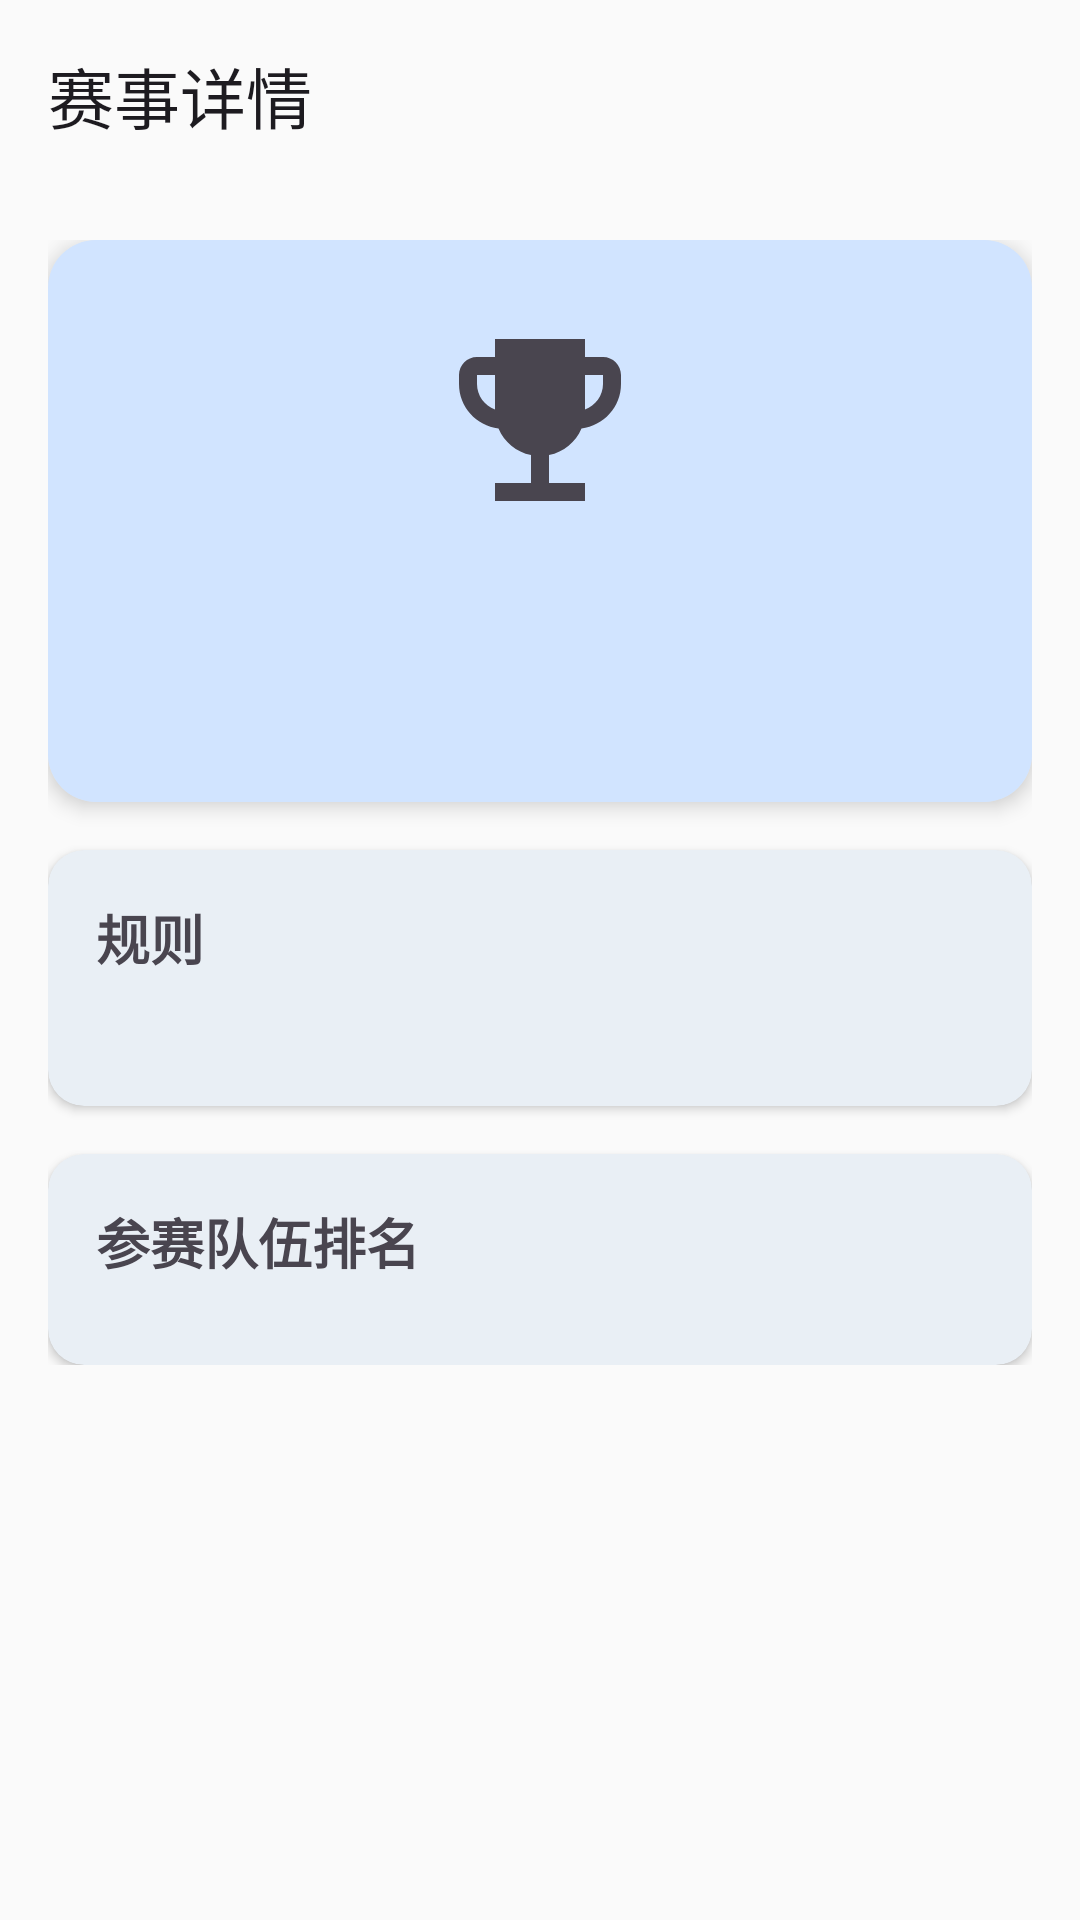

Named icons in this screenshot (1080w x 1920h) and their bounding boxes, bbox=[x1, y1, x2, y2]:
trophy: bbox=[459, 339, 621, 501]
